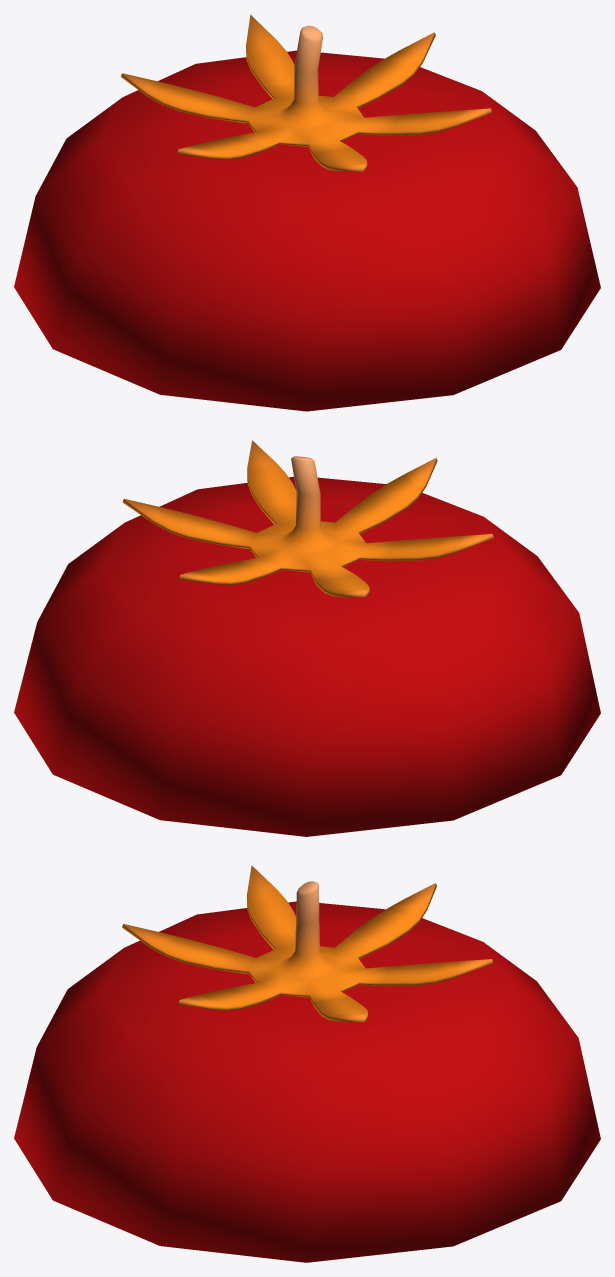
The model's file is Tomato_half_01.fbx.
The picture shows the model from 3 angles, top to bottom: view 1: azimuth 30°, elevation 25°; view 2: azimuth 150°, elevation 25°; view 3: azimuth 270°, elevation 25°; orthographic projection.
Parts seen in each view (by area): view 1: Tomato_half_01; view 2: Tomato_half_01; view 3: Tomato_half_01.
Boxes of the visible parts, box(x1,y1,x2,y2) form: Tomato_half_01: box(14, 14, 600, 411); Tomato_half_01: box(14, 440, 600, 836); Tomato_half_01: box(14, 865, 600, 1262).
Size of the model in its own units: 84.19 by 84.19 by 41.36.
